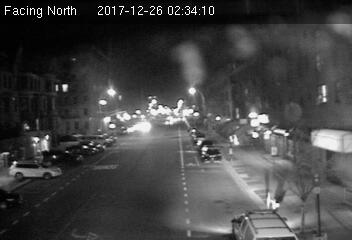car: (200, 144, 223, 164)
truck: (228, 206, 291, 240)
